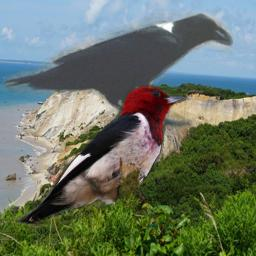Crow: (1, 11, 233, 129)
Woodpecker: (10, 83, 195, 225)
